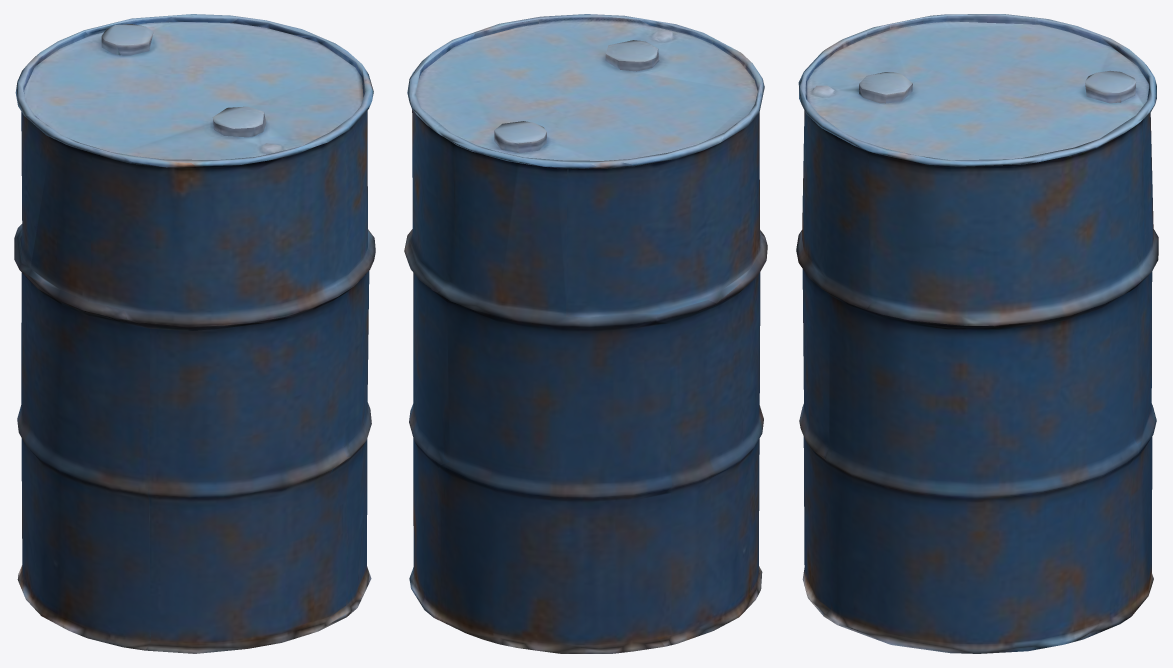
Rendered from barrel.glb.
3 renders of one model, left to right at view 1: azimuth 30°, elevation 25°; view 2: azimuth 150°, elevation 25°; view 3: azimuth 270°, elevation 25°, orthographic.
Parts seen in each view (by area): view 1: barrel; view 2: barrel; view 3: barrel.
Boxes of the visible parts, x1,y1,x2,y2 form: barrel: [14, 14, 375, 653]; barrel: [404, 14, 767, 653]; barrel: [796, 14, 1158, 653].
Size of the model in its own units: 0.6631 by 0.9985 by 0.6592.
Materials: 1 (1 with a texture image).
